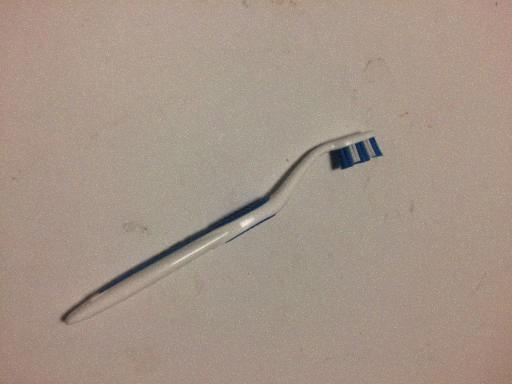trash: (24, 134, 382, 330)
